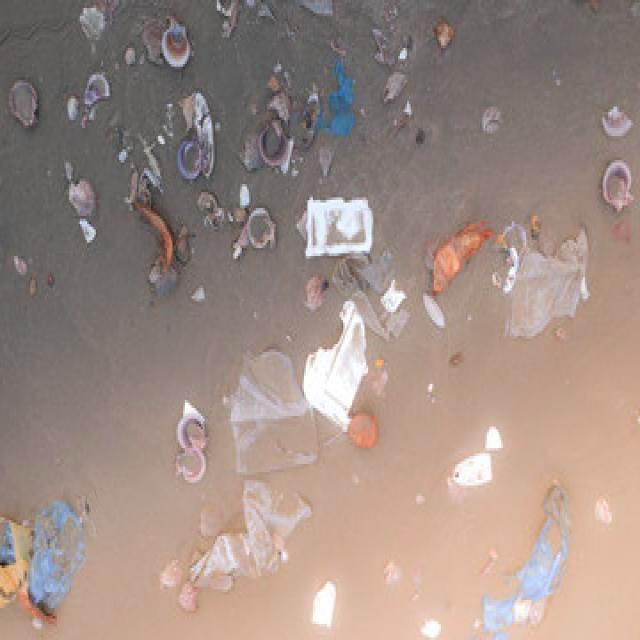Plastic: (430, 214, 494, 307)
Trash: (186, 483, 313, 590), (484, 483, 572, 637), (0, 493, 96, 632), (495, 221, 595, 340), (233, 341, 317, 478), (307, 300, 379, 433), (172, 87, 226, 192), (255, 71, 304, 171), (299, 195, 372, 258), (134, 185, 181, 277), (228, 202, 284, 264), (65, 64, 113, 132), (153, 16, 193, 75), (7, 75, 43, 134), (603, 154, 639, 213), (448, 449, 500, 488), (72, 0, 121, 38), (63, 165, 97, 218), (600, 93, 634, 143), (174, 441, 211, 484), (178, 399, 209, 443), (310, 582, 337, 629)
